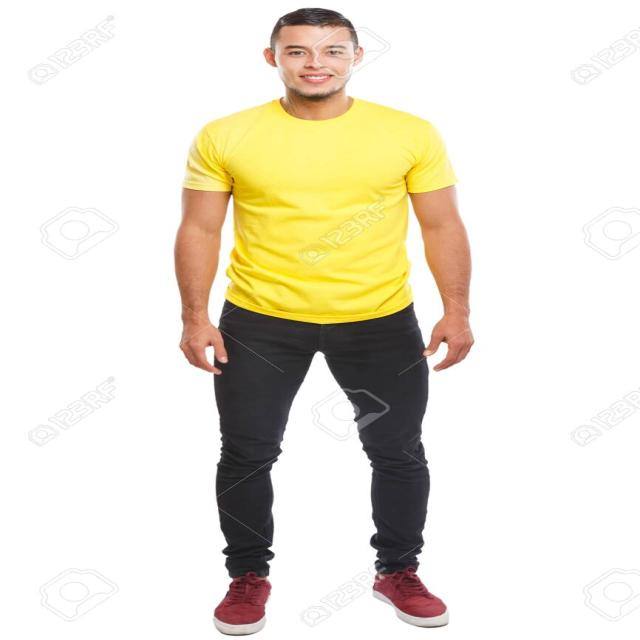adult: (176, 9, 477, 637)
